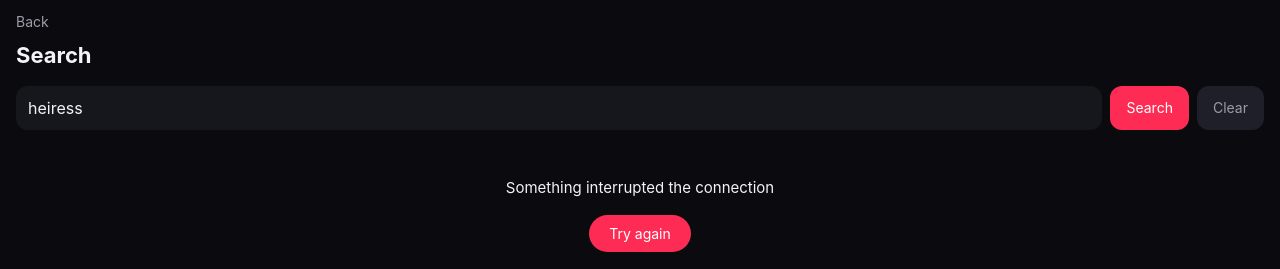
it: a search that failed › offers a retry when the network dropped, and reruns the same query on it
Click the button "Try again": (640, 233) top-left (589, 214), bottom-right (691, 252)
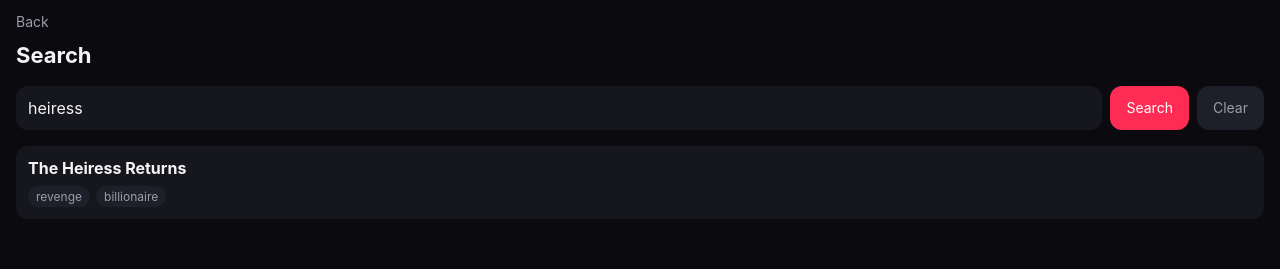
Expected: the list with test id "search-hits" is shown, top-left (16, 146), bottom-right (1264, 219)
